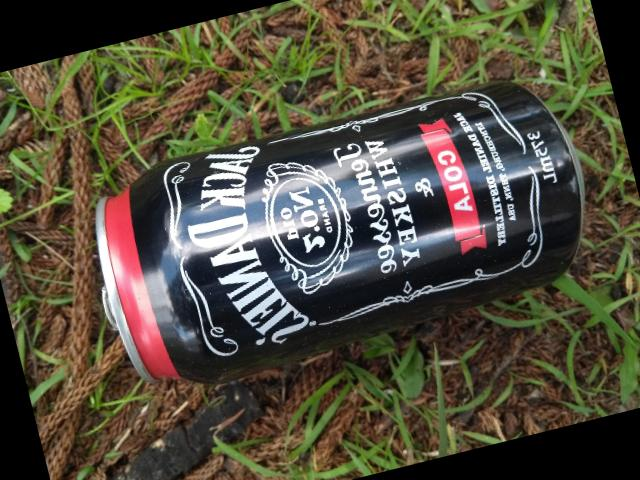metal: (96, 82, 584, 383)
